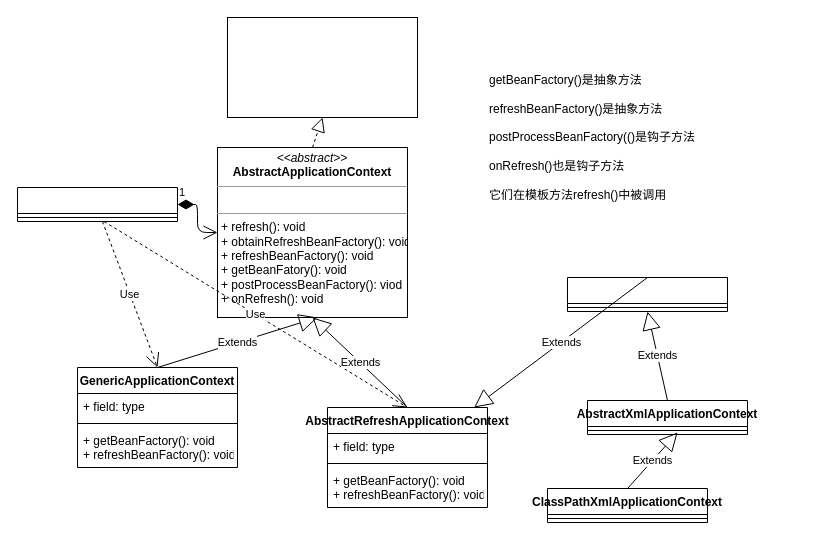
This 815x540 diagram has some shape labels left out. Each missing label, with the box of its shape:
<<Interface>> ConfigurableApplicationContext + refresh(): void: (226, 16, 418, 118)
AbstractRefreshableConfigApplicationContext: (566, 276, 728, 312)
Client: (16, 186, 178, 222)
